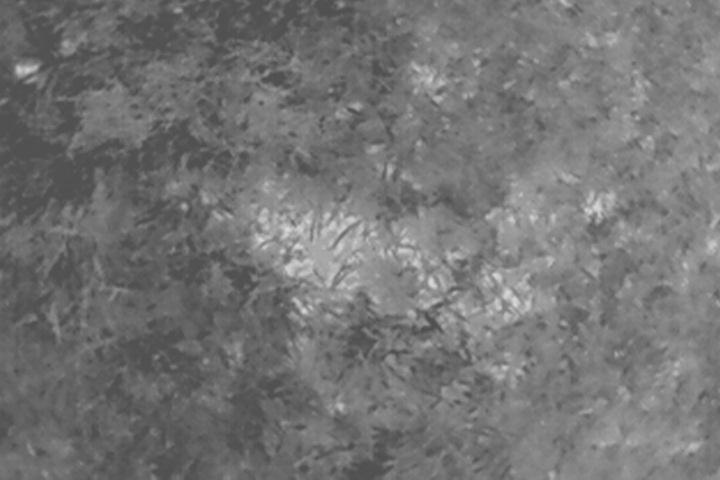landmine: (261, 200, 362, 284)
